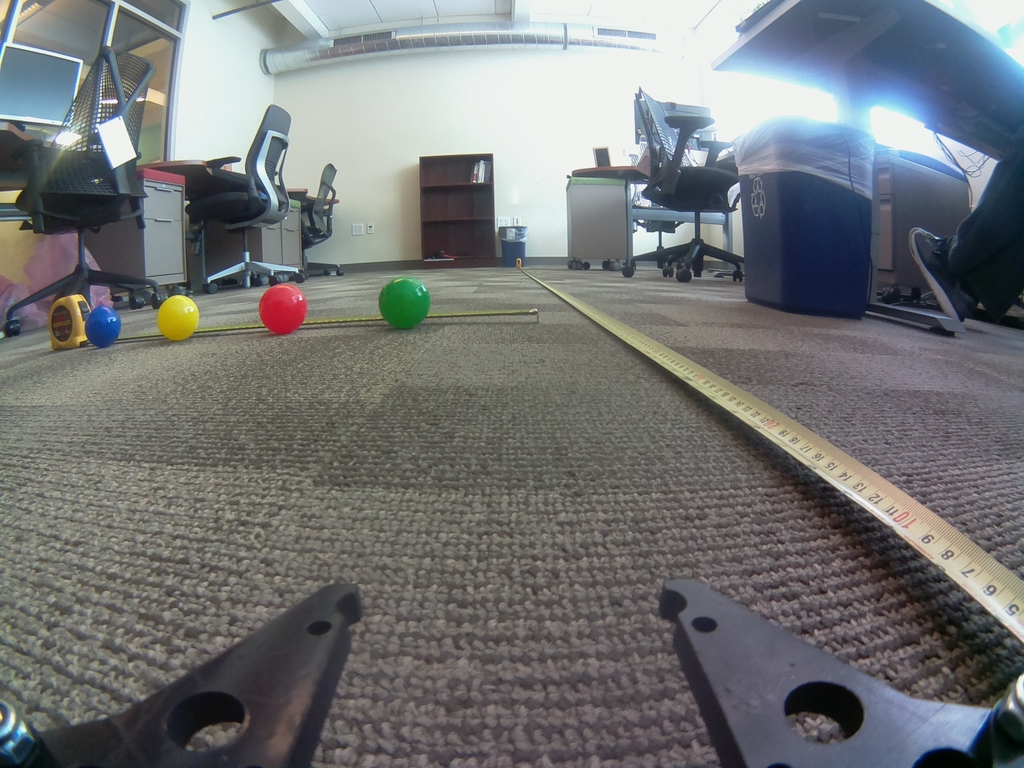ball: (377, 275, 431, 331)
